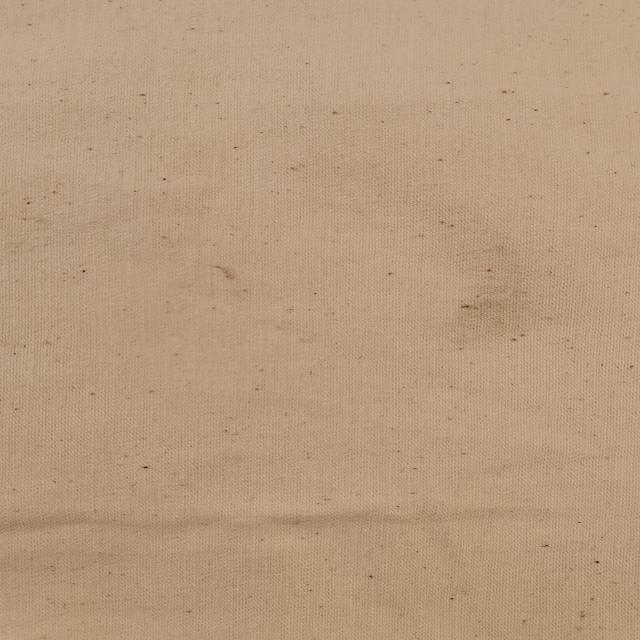taaaches: (430, 224, 548, 346), (204, 262, 249, 286)
